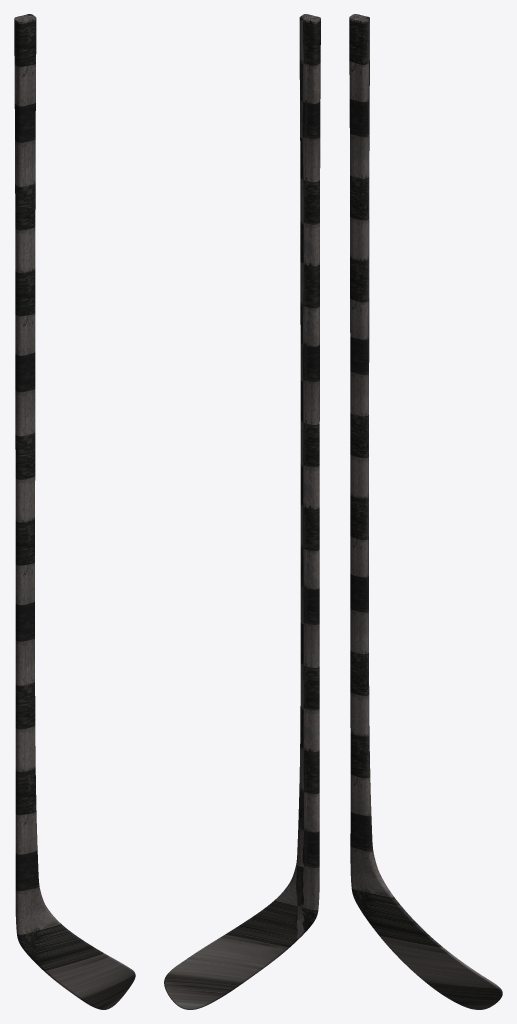
Rendered from P41-SBO.glb.
The picture shows the model from 3 angles, left to right: view 1: azimuth 30°, elevation 25°; view 2: azimuth 150°, elevation 25°; view 3: azimuth 330°, elevation 25°; orthographic projection. The views are drawn at different scales.
Visible parts, largest first — view 1: geometry_0; view 2: geometry_0; view 3: geometry_0.
Boxes of the visible parts, bbox=[...] form: geometry_0: bbox=[14, 14, 135, 1009]; geometry_0: bbox=[164, 14, 320, 1009]; geometry_0: bbox=[349, 14, 502, 1009].
Size of the model in its own units: 233 by 1650 by 75.28.
Materials: 1 (1 with a texture image).
